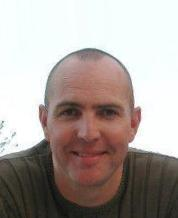face: (57, 100, 119, 165)
